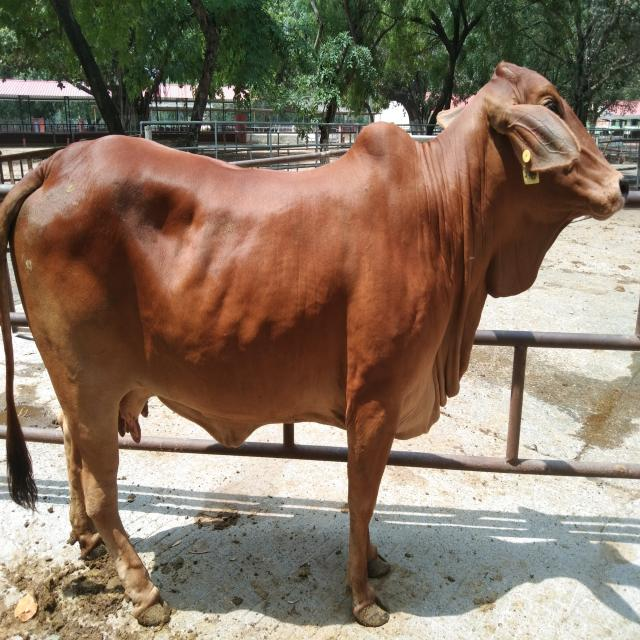cow: (1, 60, 630, 629)
hump: (354, 119, 414, 160)
